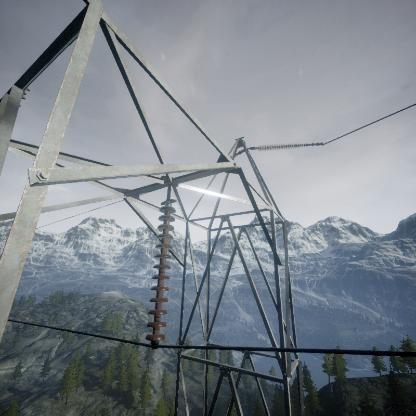insulator: (143, 196, 176, 344)
